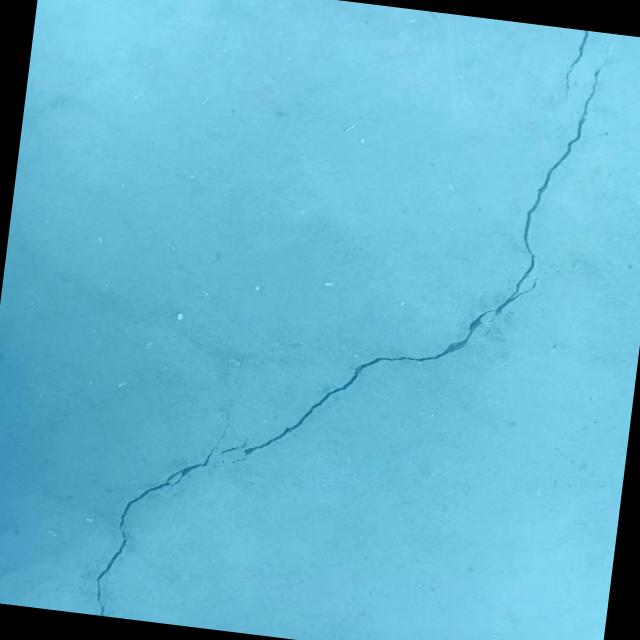crack: (231, 19, 608, 503), (91, 383, 233, 628), (562, 28, 590, 105), (220, 426, 257, 459), (480, 320, 502, 338), (212, 458, 224, 467)
